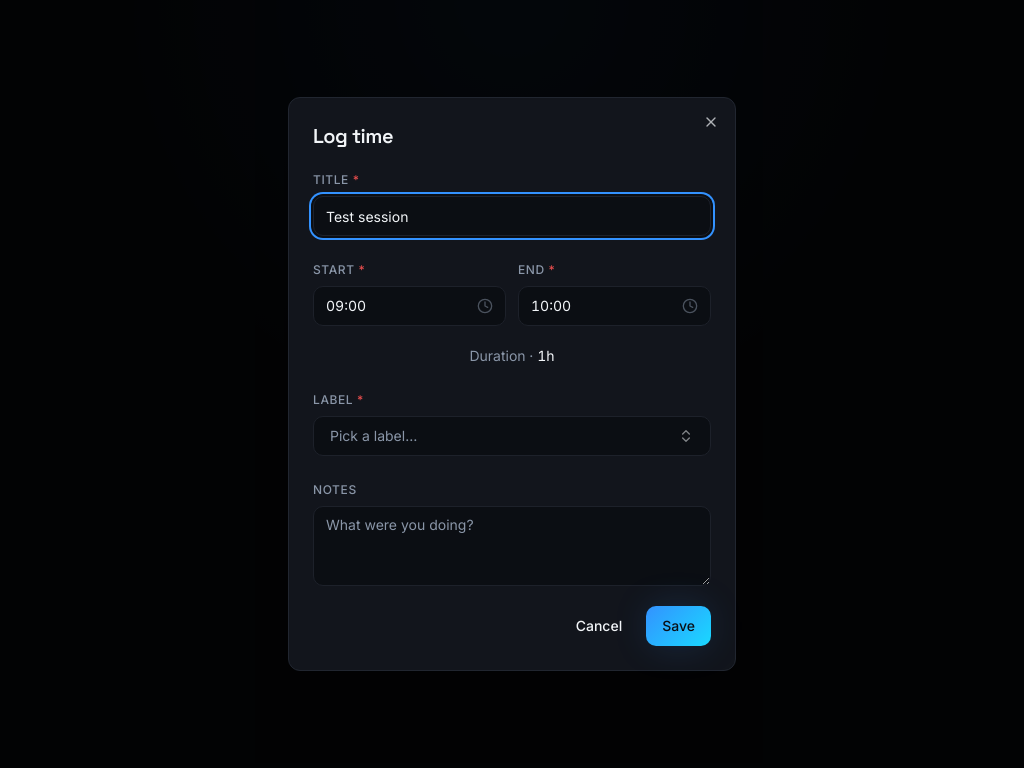
Test: QuickLogDialog › shows Pick a label when submitting without a label
The image size is (1024, 768).
Click the button "Save".
click(679, 626)  # box [646,606,711,646]
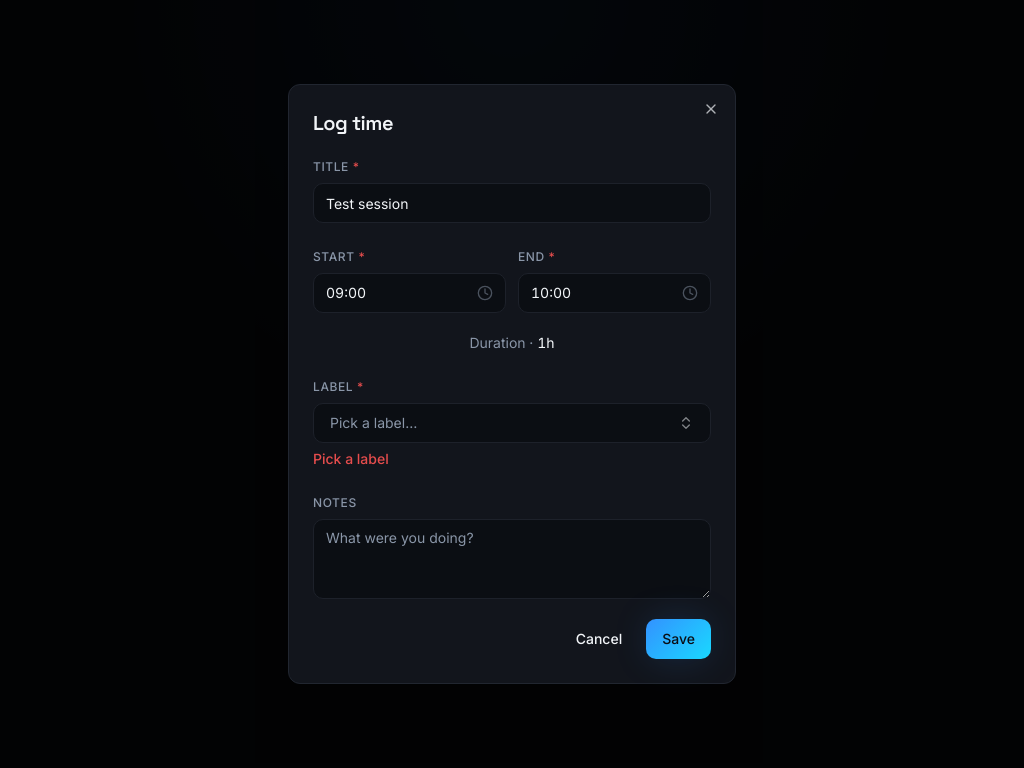
Check: the text "Pick a label" is shown, box [313,450,389,467]
